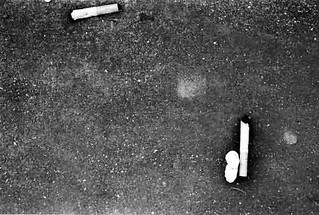cigarette: (68, 3, 126, 21), (237, 113, 252, 179)
